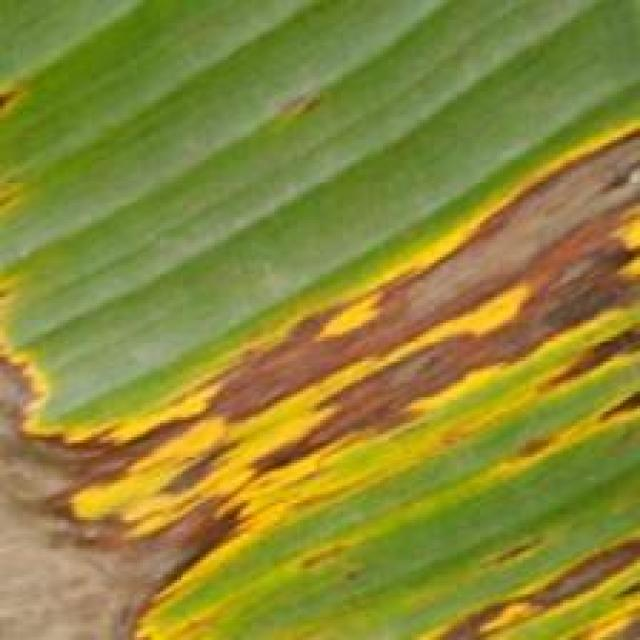Early_leaf_spot: (0, 124, 640, 640), (380, 534, 640, 640), (0, 42, 55, 228), (0, 235, 52, 419), (263, 59, 329, 130)
